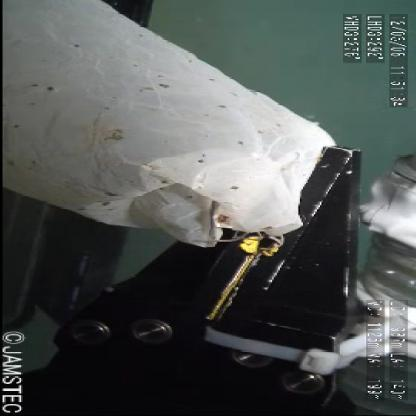Rác: (4, 2, 364, 252)
